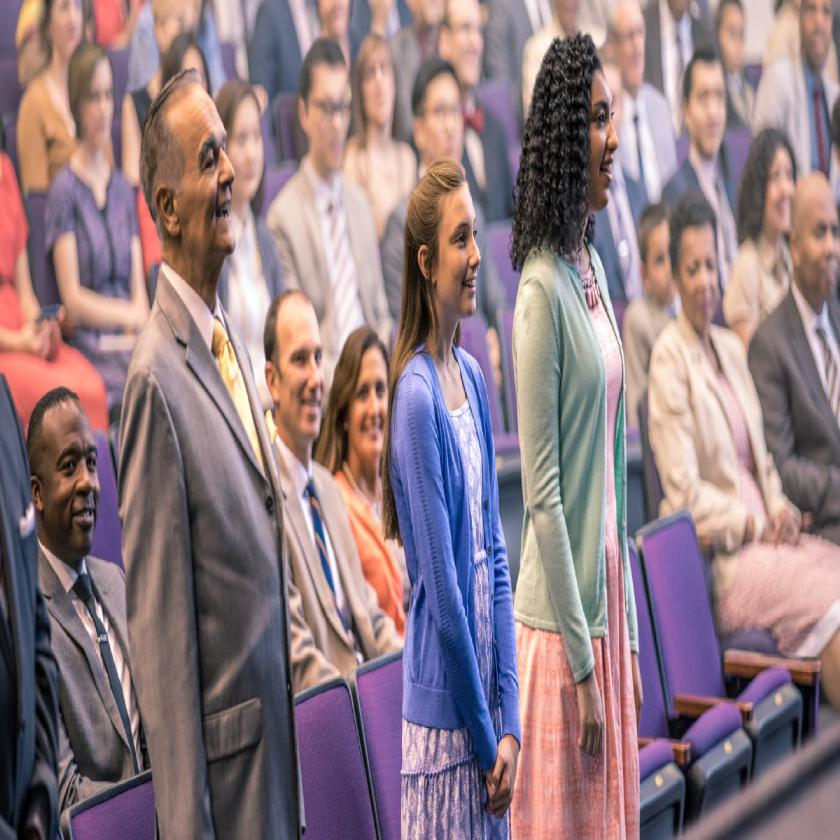Sin_casco: (141, 81, 238, 293), (541, 33, 619, 242), (29, 377, 101, 565), (409, 169, 486, 339), (266, 282, 332, 443), (338, 316, 396, 483), (300, 39, 354, 191), (671, 192, 723, 337), (412, 51, 467, 179), (788, 167, 840, 300), (682, 41, 734, 168), (743, 127, 803, 232), (355, 31, 405, 141), (72, 44, 118, 152), (608, 0, 645, 95)
